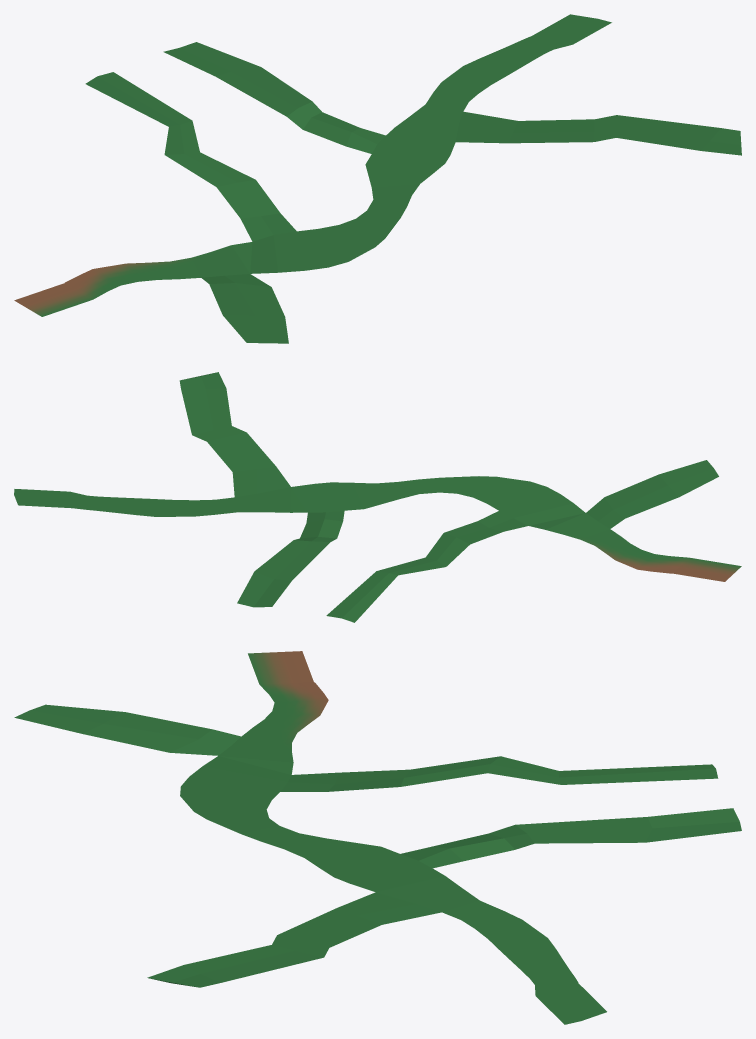
Rendered from SM_River_V3.fbx.
3 renders of one model, top to bottom at view 1: azimuth 30°, elevation 25°; view 2: azimuth 150°, elevation 25°; view 3: azimuth 270°, elevation 25°, orthographic. The views are drawn at different scales.
Visible parts, largest first — view 1: River_Part_01; view 2: River_Part_01; view 3: River_Part_01.
Boxes of the visible parts, x1,y1,x2,y2 form: River_Part_01: (14, 14, 741, 343); River_Part_01: (14, 372, 741, 622); River_Part_01: (14, 651, 741, 1024).
Bounding box in the file's own units: 4493 × 218 × 3494.
